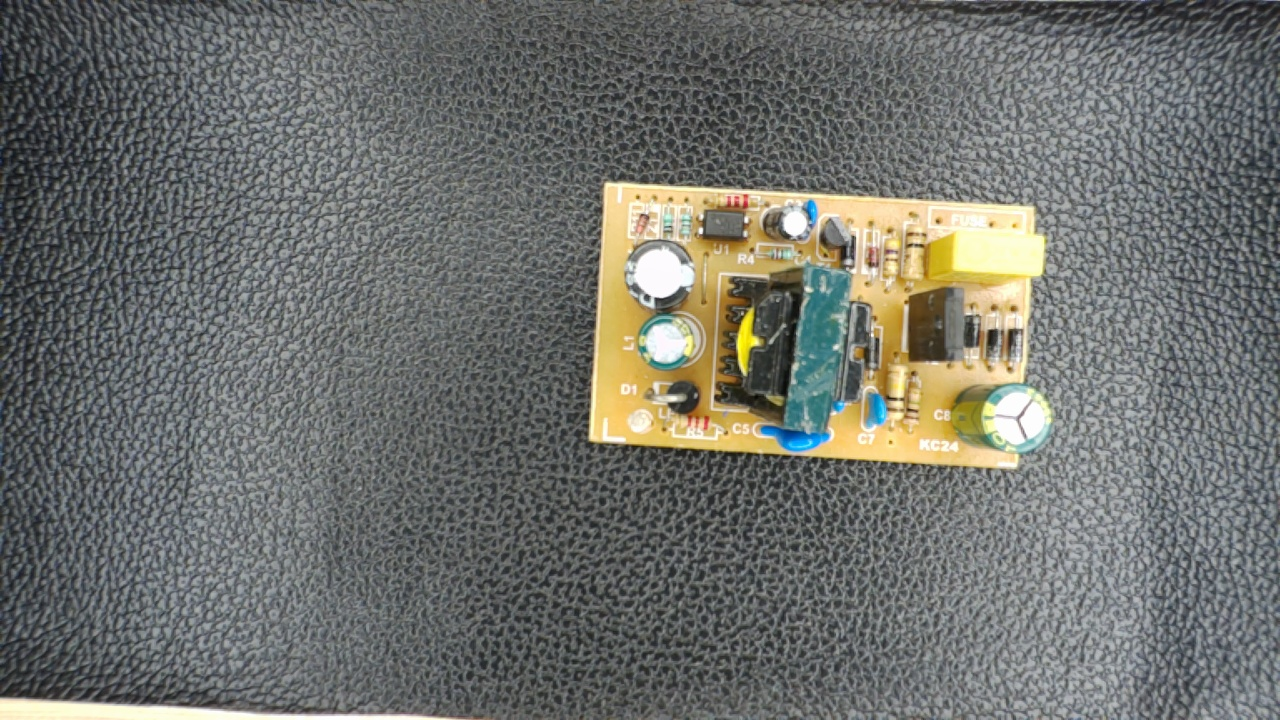hv_capacitor: (953, 380, 1055, 455)
mov: (752, 419, 836, 455)
optocoupler: (695, 207, 750, 245)
